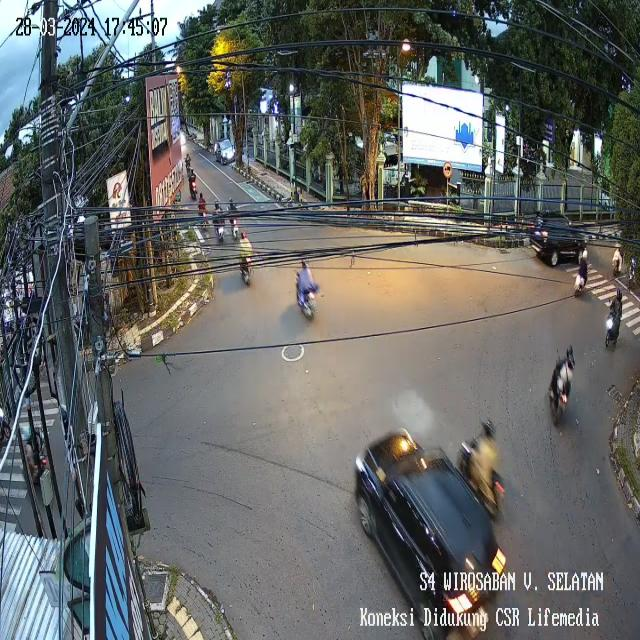car: (353, 412, 506, 640), (530, 201, 592, 274)
motorcycle: (452, 414, 512, 530), (542, 340, 576, 436), (292, 250, 319, 328), (236, 237, 258, 291), (604, 292, 624, 349), (226, 190, 243, 240), (211, 198, 227, 247), (574, 251, 589, 299), (195, 191, 210, 231), (187, 172, 200, 201), (183, 150, 192, 170)
